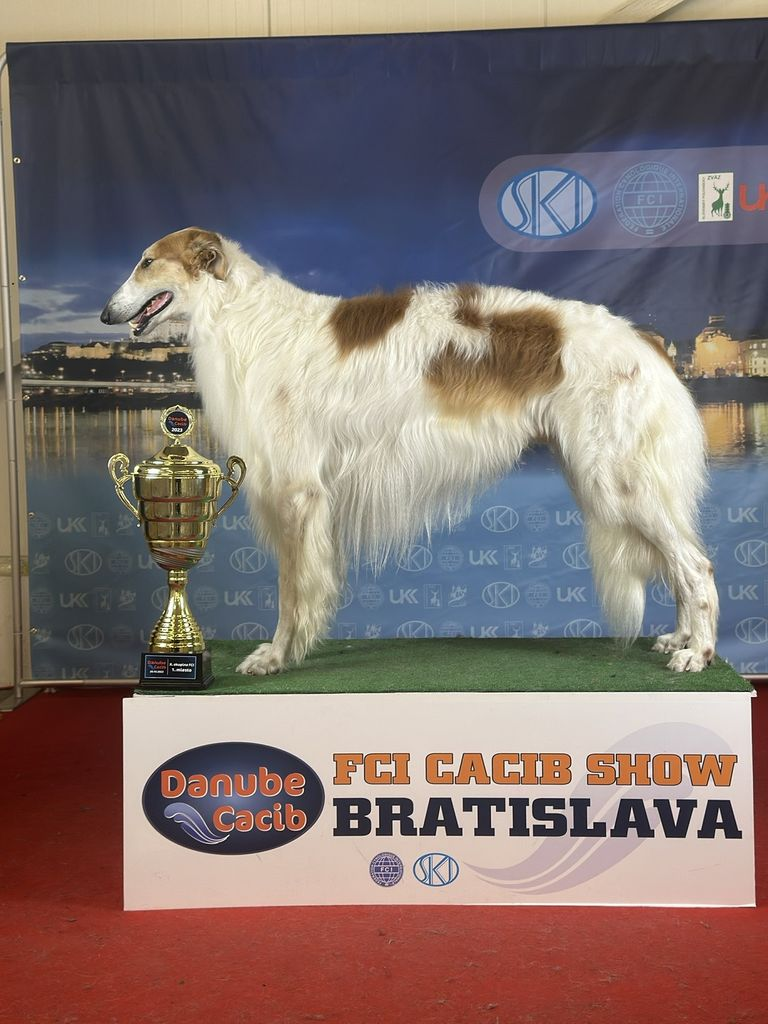borzoi: (92, 221, 725, 675)
